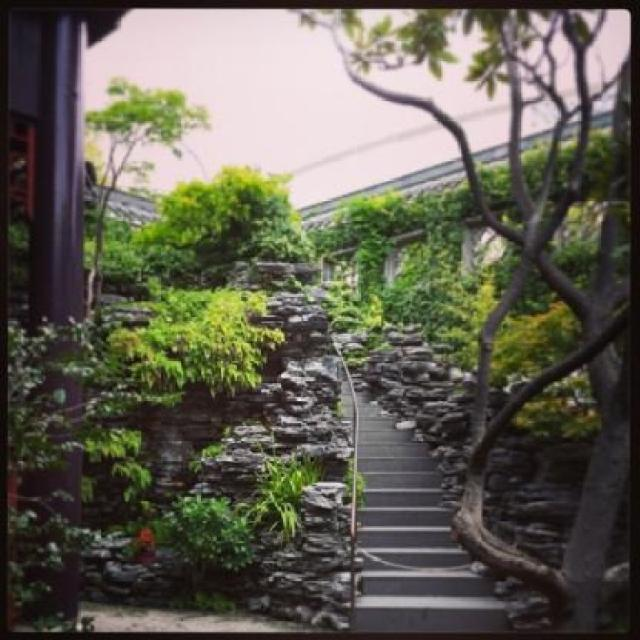stair: (331, 357, 518, 634)
